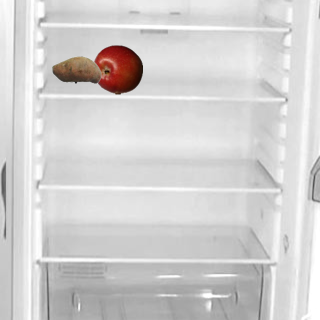Apple Braeburn: (92, 44, 142, 94)
Potato Sweet: (51, 44, 101, 94)
